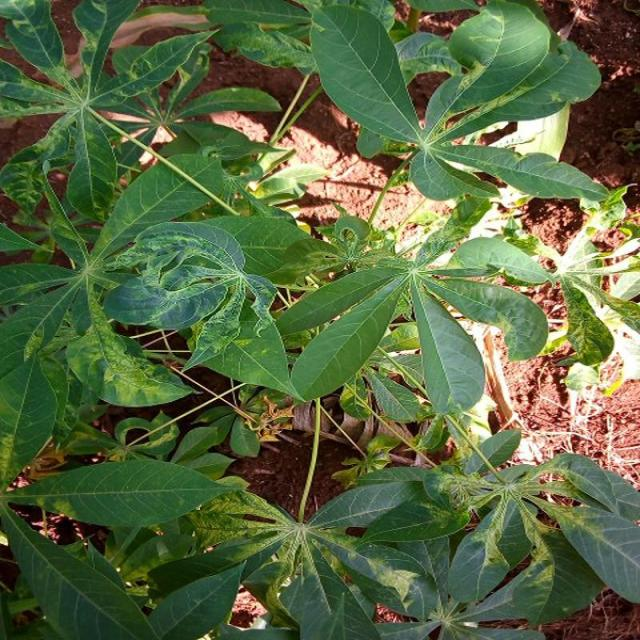cassava leaf: (1, 0, 637, 638), (307, 2, 421, 146)
